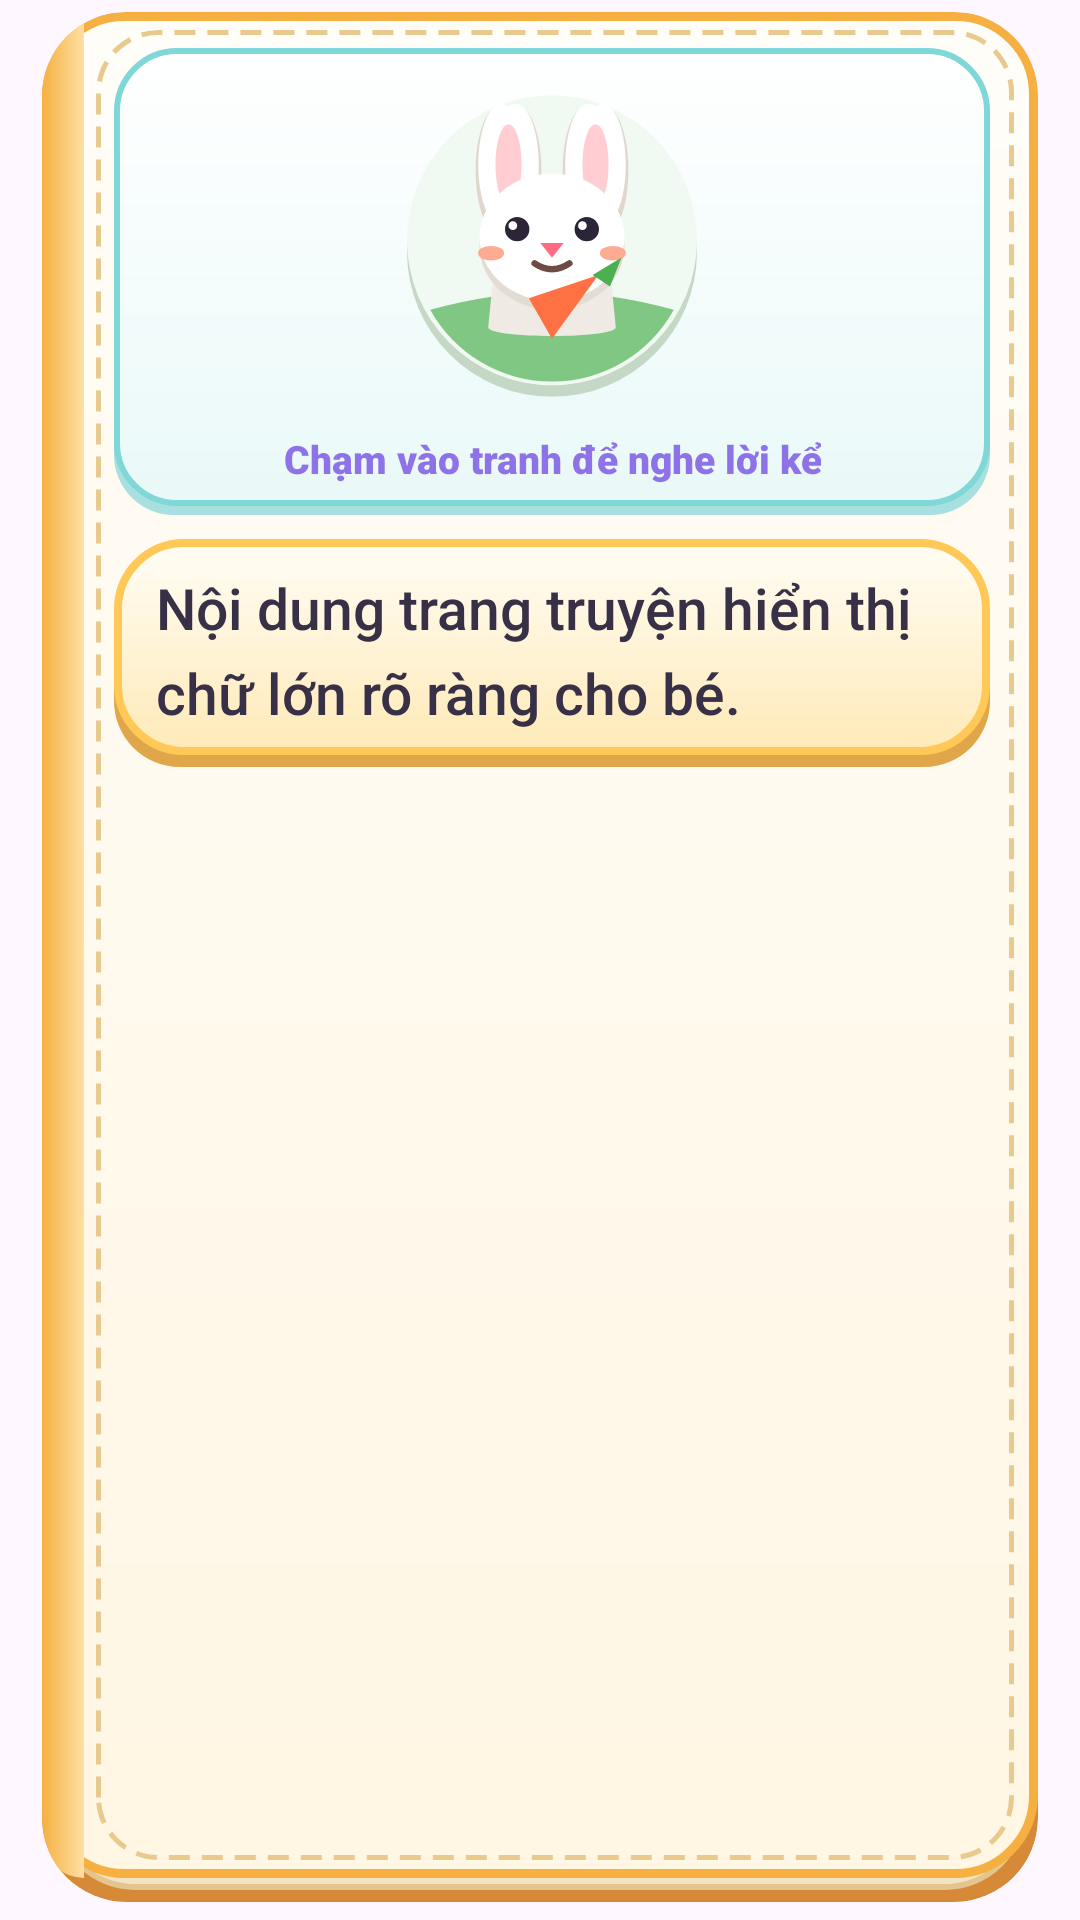

Named icons in this screenshot (1080w x 1920h) and their centers, (x=x, y=y):
illust en rabbit: (x=552, y=255)
